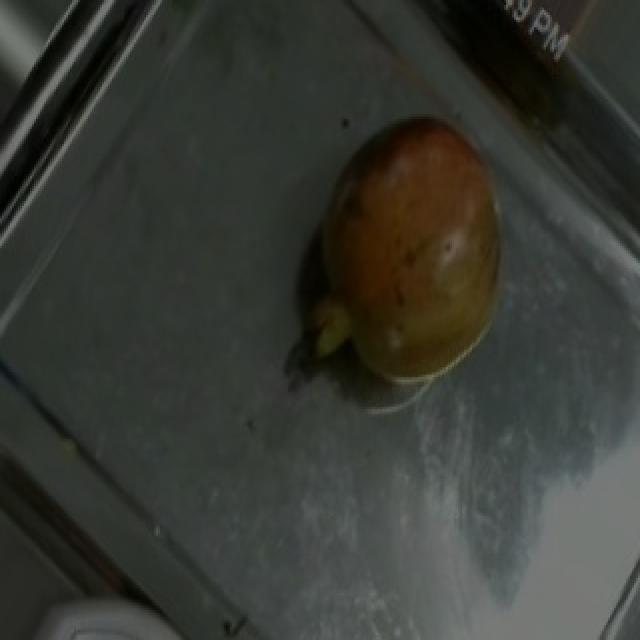fruit: (292, 92, 536, 372)
